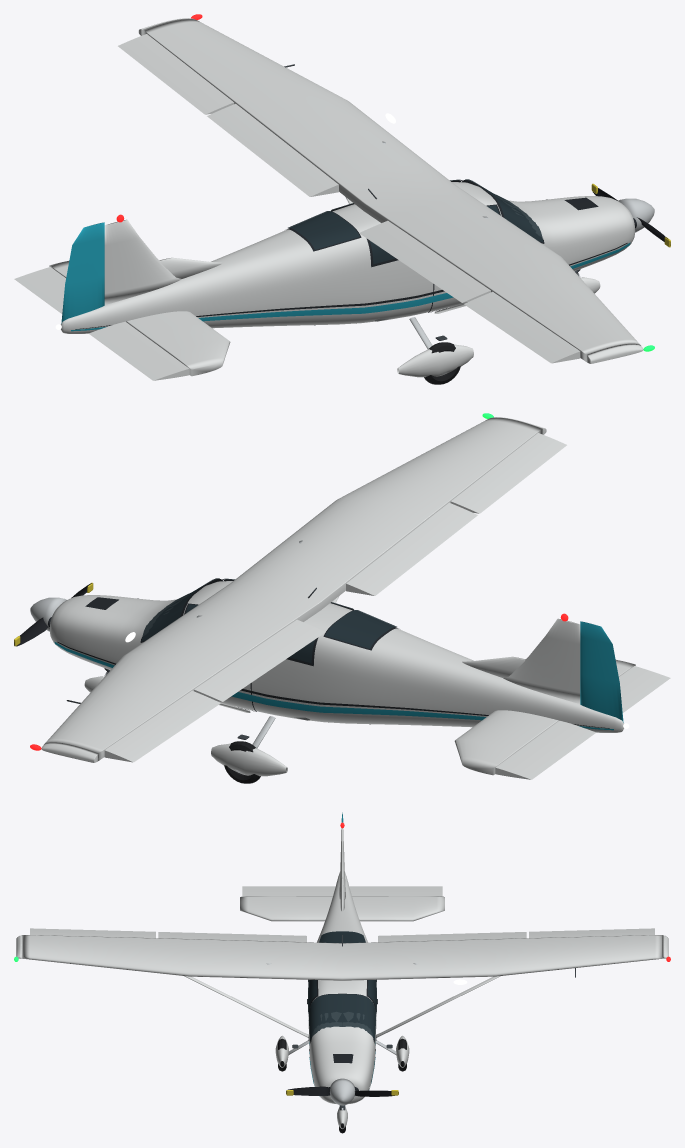
File: ft172-trainer.glb
3 renders of one model, top to bottom at view 1: azimuth 30°, elevation 25°; view 2: azimuth 150°, elevation 25°; view 3: azimuth 270°, elevation 25°, orthographic. The views are drawn at different scales.
Visible parts, largest first — view 1: Wing_Main, Fuselage, Stabilizer, VerticalStabilizer, Flap_L_Surface, Flap_R_Surface, Rudder_Surface, Aileron_L_Surface, Aileron_R_Surface, Elevator_R_Surface, Livery_Cyan_R, MainGearFairing_R (+7 smaller); view 2: Wing_Main, Fuselage, Stabilizer, VerticalStabilizer, Flap_R_Surface, Flap_L_Surface, Rudder_Surface, Aileron_R_Surface, Aileron_L_Surface, Elevator_L_Surface, Livery_Cyan_L, MainGearFairing_L (+8 smaller); view 3: Wing_Main, Fuselage, Stabilizer, Windshield, Flap_L_Surface, Flap_R_Surface, Elevator_L_Surface, Elevator_R_Surface, Aileron_L_Surface, Aileron_R_Surface, Propeller, Propeller_Spinner (+3 smaller).
Part boxes in pixels (x1,y1,x2,y2): Wing_Main: [142, 18, 639, 361]; Fuselage: [61, 182, 635, 333]; Stabilizer: [49, 261, 230, 376]; VerticalStabilizer: [104, 219, 181, 304]; Flap_L_Surface: [207, 103, 338, 196]; Flap_R_Surface: [359, 220, 490, 302]; Rudder_Surface: [61, 222, 104, 323]; Aileron_L_Surface: [118, 34, 234, 114]; Aileron_R_Surface: [464, 291, 580, 363]; Elevator_R_Surface: [89, 321, 189, 380]; Livery_Cyan_R: [71, 242, 630, 331]; MainGearFairing_R: [397, 344, 473, 377]; Wing_Main: [45, 417, 542, 760]; Fuselage: [49, 581, 623, 732]; Stabilizer: [454, 660, 635, 775]; VerticalStabilizer: [503, 618, 580, 703]; Flap_R_Surface: [346, 502, 477, 595]; Flap_L_Surface: [194, 619, 325, 701]; Rudder_Surface: [580, 621, 623, 722]; Aileron_R_Surface: [450, 433, 566, 513]; Aileron_L_Surface: [104, 690, 220, 762]; Elevator_L_Surface: [495, 720, 595, 779]; Livery_Cyan_L: [54, 641, 613, 730]; MainGearFairing_L: [211, 743, 287, 776]; Wing_Main: [23, 935, 661, 980]; Fuselage: [308, 872, 376, 1103]; Stabilizer: [240, 896, 444, 921]; Windshield: [309, 994, 375, 1040]; Flap_L_Surface: [378, 932, 526, 942]; Flap_R_Surface: [158, 932, 306, 942]; Elevator_L_Surface: [349, 886, 442, 896]; Elevator_R_Surface: [242, 886, 335, 896]; Aileron_L_Surface: [529, 928, 654, 938]; Aileron_R_Surface: [30, 928, 155, 938]; Propeller: [286, 1086, 398, 1096]; Propeller_Spinner: [330, 1078, 355, 1105].
Bounding box in the file's own units: 8.44 × 2.8 × 11.14.
